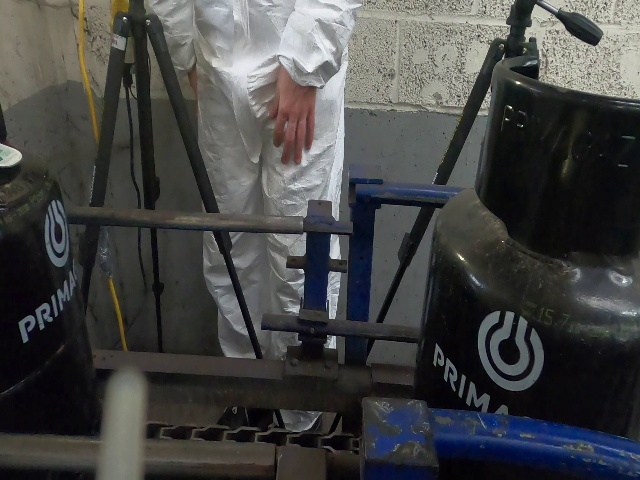gas_bottle: (0, 6, 632, 470)
